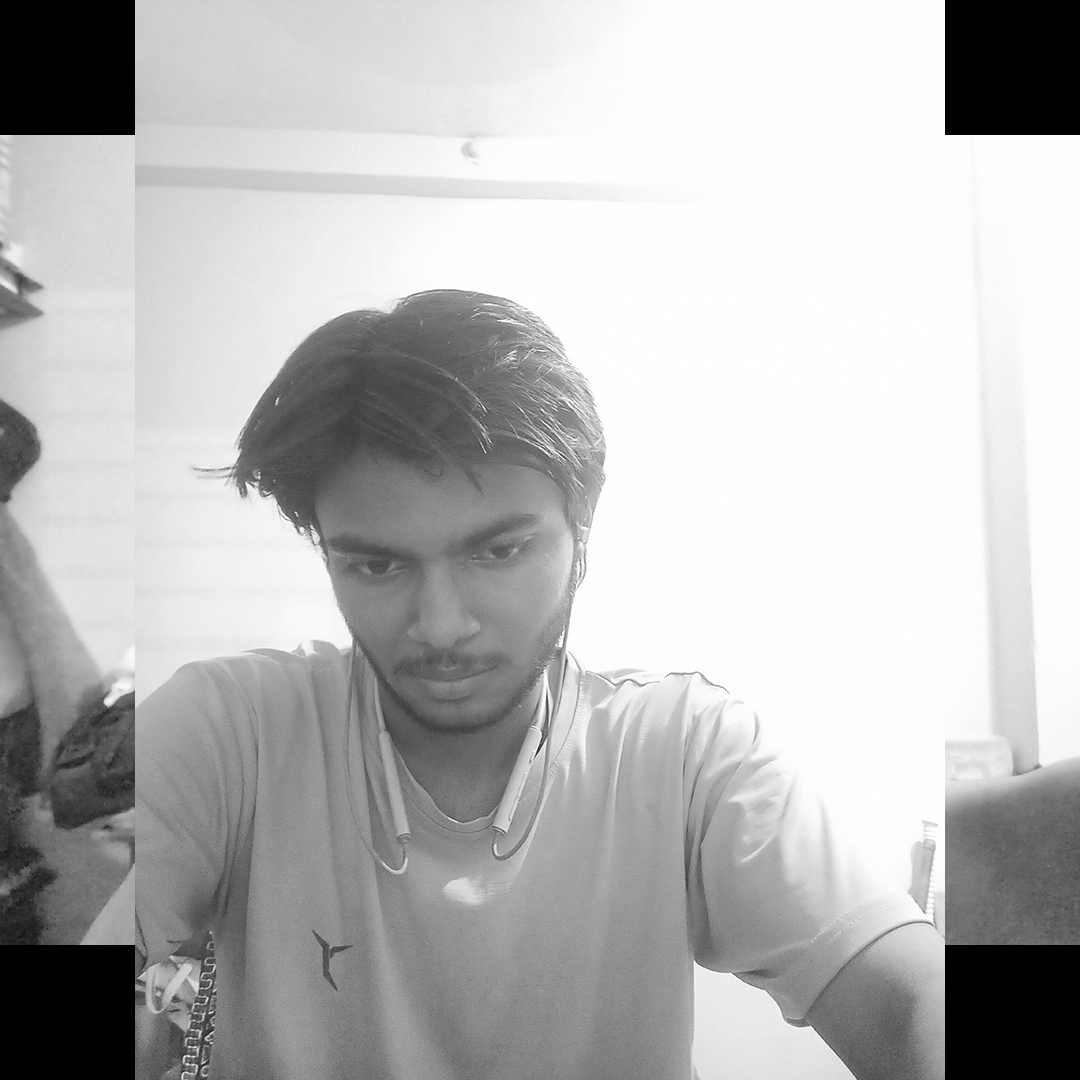distracted: (197, 241, 657, 893)
